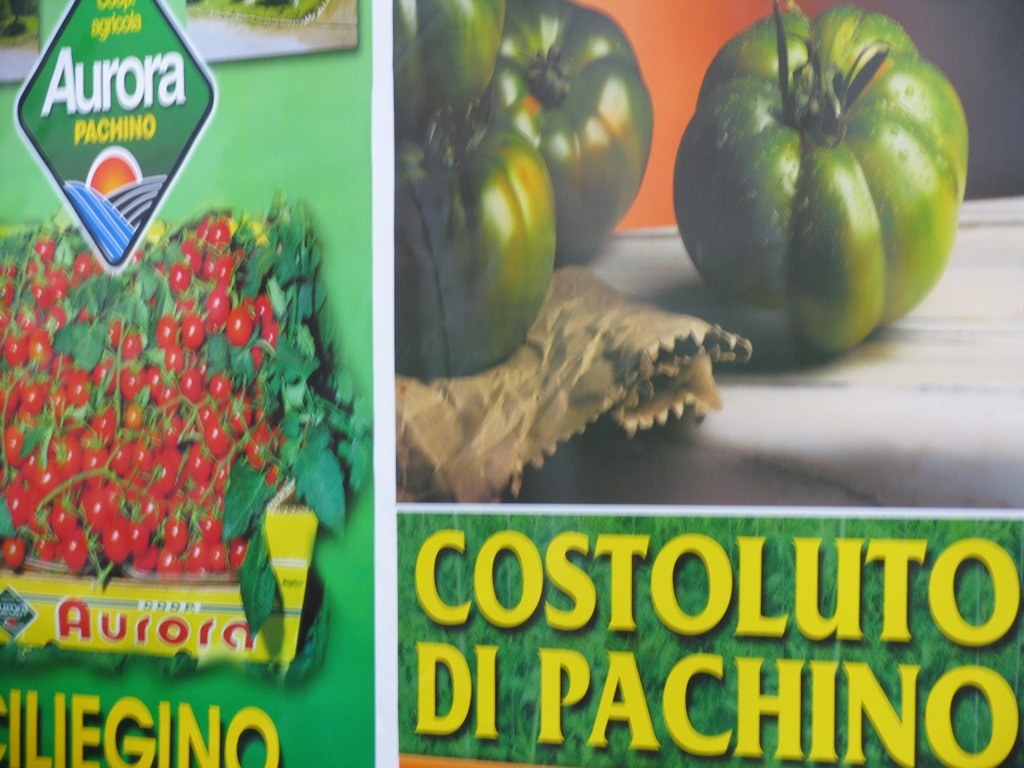Tomato: (0, 218, 290, 590), (677, 7, 975, 344)
